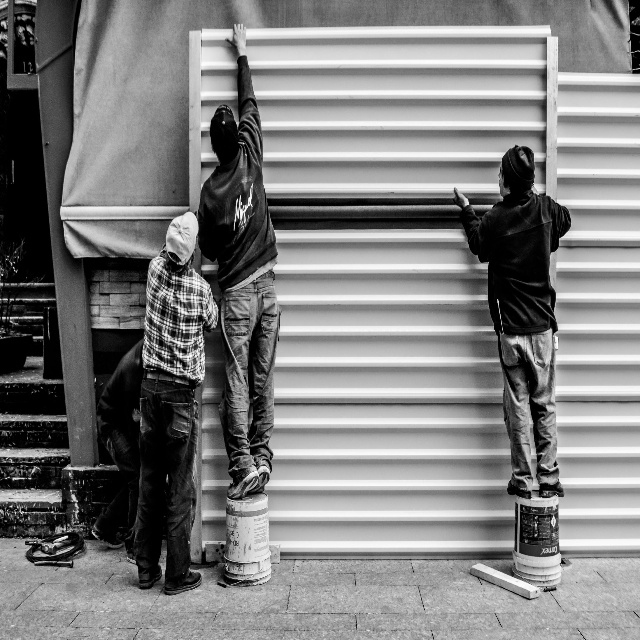Sin_guantes: (224, 22, 247, 50), (452, 187, 469, 207)
